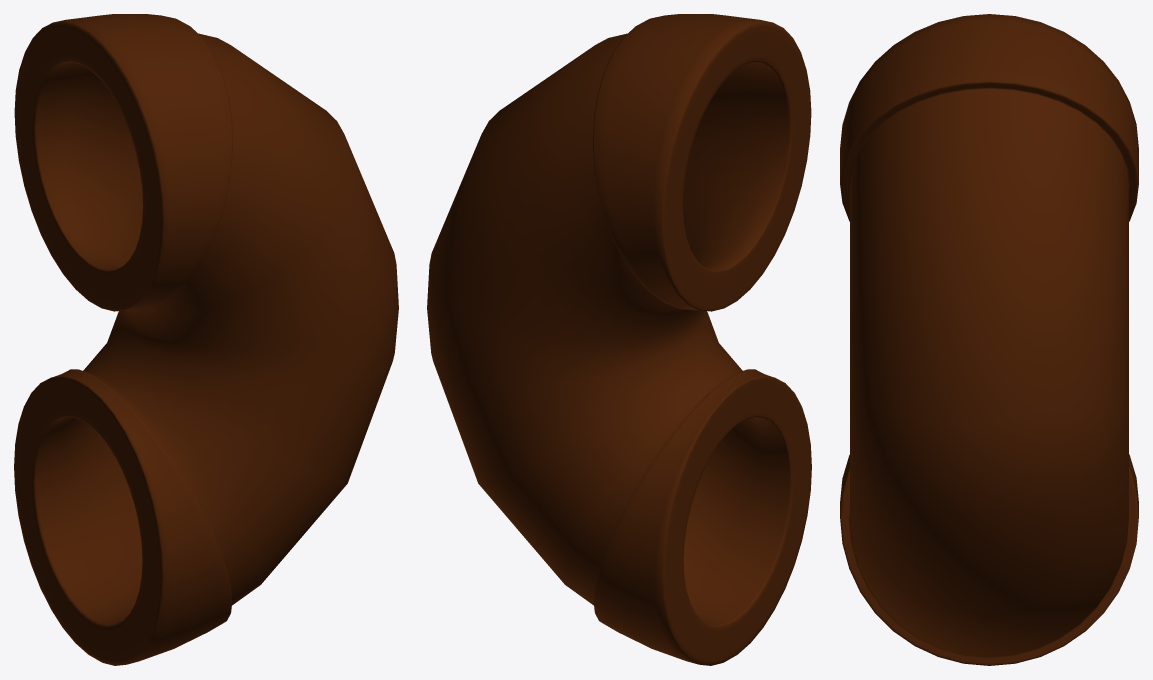
File: pipe_v1_180.FBX
3 renders of one model, left to right at view 1: azimuth 30°, elevation 25°; view 2: azimuth 150°, elevation 25°; view 3: azimuth 270°, elevation 25°, orthographic.
Parts seen in each view (by area): view 1: Cylinder030; view 2: Cylinder030; view 3: Cylinder030.
Part boxes in pixels (x1,y1,x2,y2): Cylinder030: (14, 14, 398, 665); Cylinder030: (427, 14, 811, 665); Cylinder030: (840, 14, 1138, 665).
Size of the model in its own units: 103 by 211 by 91.68.
